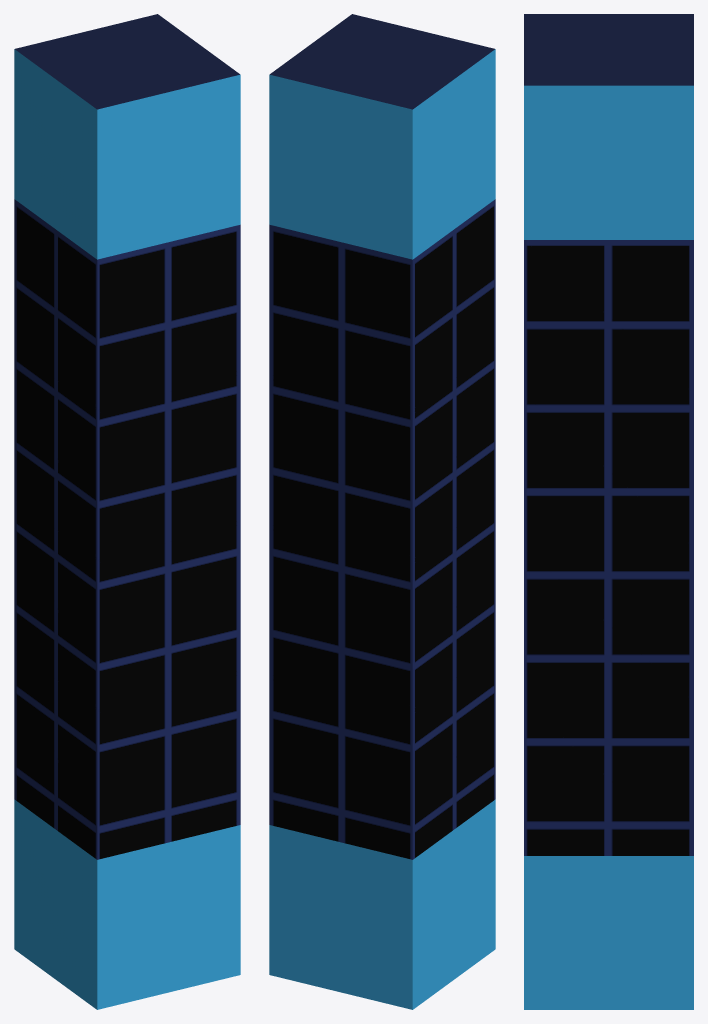
The model's file is wall_center.glb.
The picture shows the model from 3 angles, left to right: view 1: azimuth 30°, elevation 25°; view 2: azimuth 150°, elevation 25°; view 3: azimuth 270°, elevation 25°; orthographic projection. The views are drawn at different scales.
Visible parts, largest first — view 1: WallCenter; view 2: WallCenter; view 3: WallCenter.
Part boxes in pixels (x1,y1,x2,y2): WallCenter: (14, 14, 240, 1009); WallCenter: (269, 14, 495, 1009); WallCenter: (524, 14, 693, 1009).
Bounding box in the file's own units: 0.5 × 3 × 0.5.
3 materials, 1 textured.
